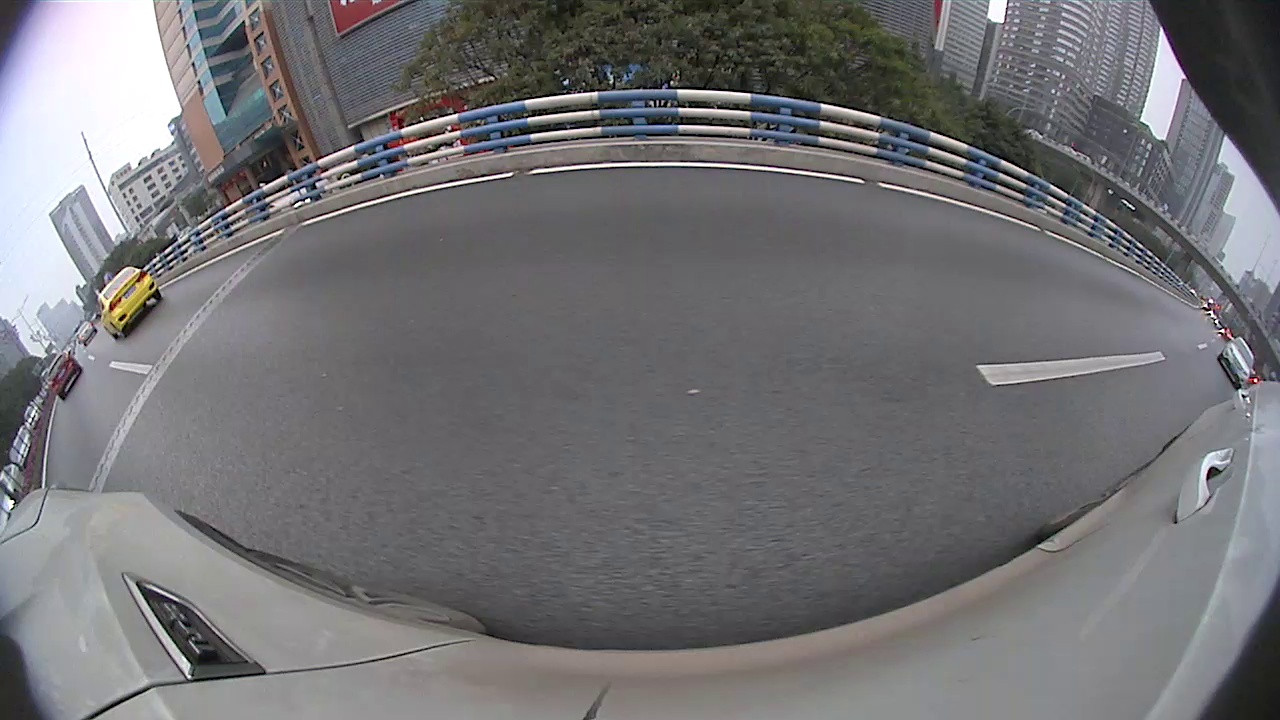car: (96, 266, 159, 341), (1214, 336, 1258, 391), (45, 357, 83, 400)
